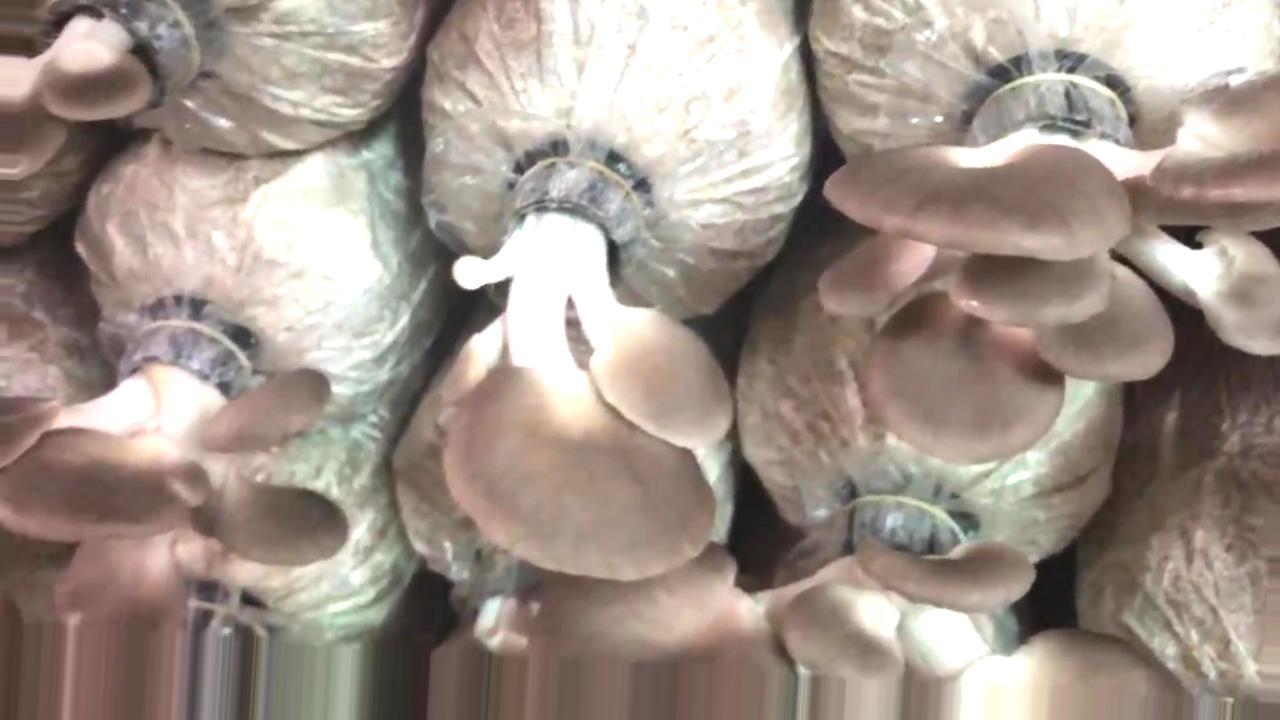nam: (814, 56, 1280, 463), (430, 492, 1206, 720), (439, 150, 734, 582), (5, 334, 350, 624), (1, 5, 211, 188)
